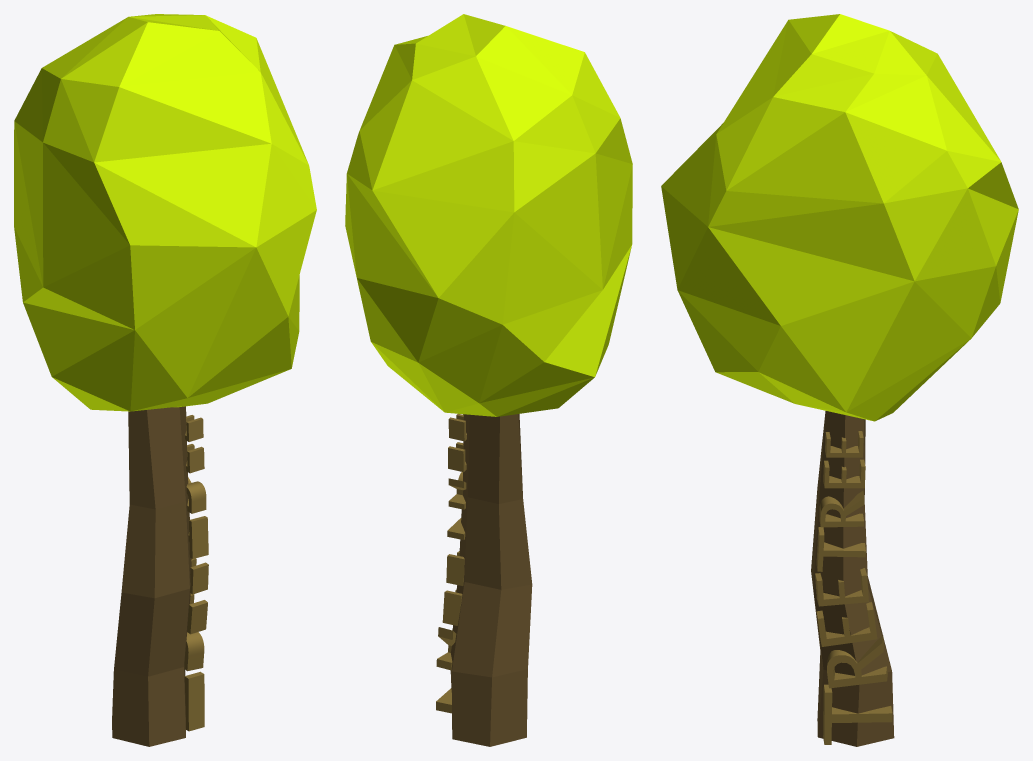
File: typetree.fbx
3 views of the same model, side by side, from view 1: azimuth 30°, elevation 25°; view 2: azimuth 150°, elevation 25°; view 3: azimuth 270°, elevation 25° (orthographic). The views are drawn at different scales.
Parts seen in each view (by area): view 1: pCube2, pCylinder2, polySurface11, polySurface15, polySurface10, polySurface12, polySurface14, polySurface9; view 2: pCube2, pCylinder2, polySurface12, polySurface9, polySurface10; view 3: pCube2, pCylinder2, polySurface10, polySurface11, polySurface14, polySurface12, polySurface9, polySurface15, polySurface13, polySurface16.
Boxes of the visible parts, x1,y1,x2,y2 form: pCube2: (14,14,316,411); pCylinder2: (112,406,191,746); polySurface11: (184,671,204,731); polySurface15: (188,516,208,558); polySurface10: (184,632,204,671); polySurface12: (187,593,207,634); polySurface14: (186,477,206,513); polySurface9: (190,558,208,594); pCube2: (345,14,632,416); pCylinder2: (450,414,532,746); polySurface12: (442,589,462,625); polySurface9: (446,551,464,585); polySurface10: (436,627,456,670); pCube2: (661,14,1018,421); pCylinder2: (811,411,894,746); polySurface10: (827,635,887,688); polySurface11: (823,684,892,744); polySurface14: (819,491,864,527); polySurface12: (816,602,877,646); polySurface9: (815,568,868,606); polySurface15: (816,527,865,571); polySurface13: (823,459,865,488); polySurface16: (825,431,863,457).
Bounding box in the file's own units: 187 × 554 × 253.
